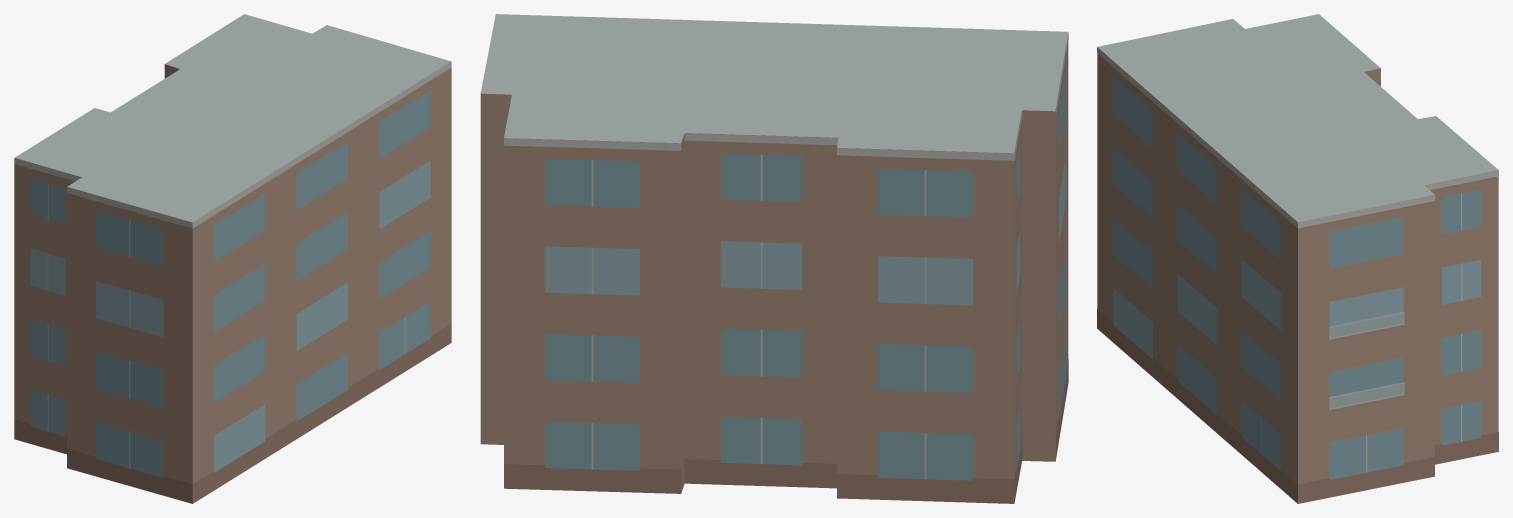
The model's file is survey-upis-32746745.glb.
The picture shows the model from 3 angles, left to right: view 1: azimuth 30°, elevation 25°; view 2: azimuth 150°, elevation 25°; view 3: azimuth 270°, elevation 25°; orthographic projection. The views are drawn at different scales.
Parts seen in each view (by area): view 1: survey-upis-32746745.tmp; view 2: survey-upis-32746745.tmp; view 3: survey-upis-32746745.tmp.
Part boxes in pixels (x1,y1,x2,y2): survey-upis-32746745.tmp: (14,14,451,503); survey-upis-32746745.tmp: (480,14,1068,503); survey-upis-32746745.tmp: (1097,14,1498,503).
Bounding box in the file's own units: 17.78 × 11.2 × 14.49.
